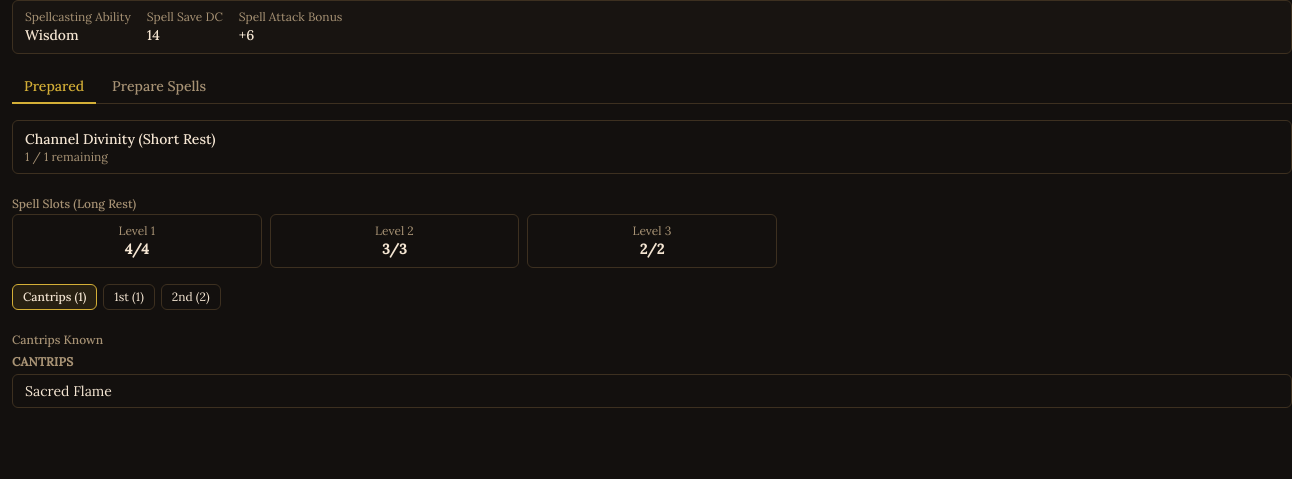
Test: ClericSheet — unified Spells tab layout › folds feat-granted spells into the strip at their own level
Click the button with test id "spell-level-tab-2" at point(191, 297), box top-left (161, 284), bottom-right (221, 310)
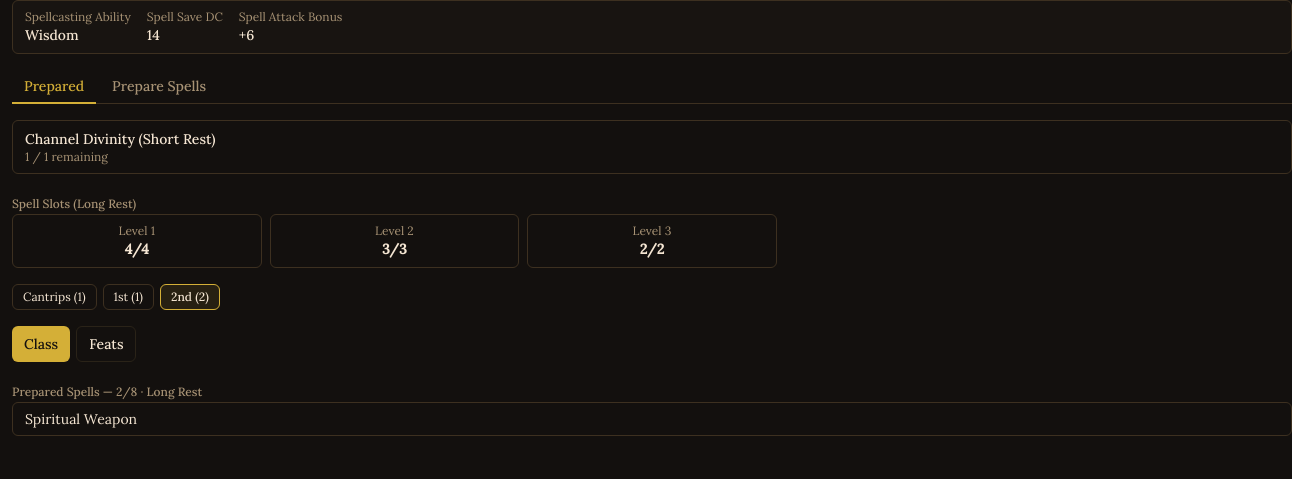
Expected: the button with test id "spell-source-feats" is shown
Click the button with test id "spell-source-feats" at point(106, 344), box top-left (76, 326), bottom-right (136, 362)
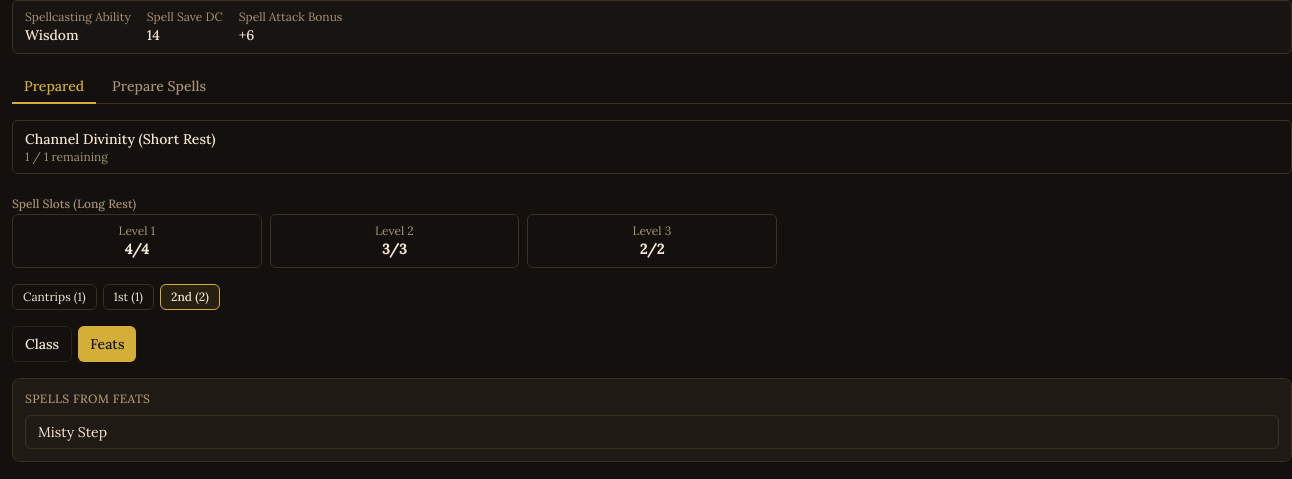
Expected: the button "Misty Step" is shown, top-left (38, 422), bottom-right (1258, 442)
